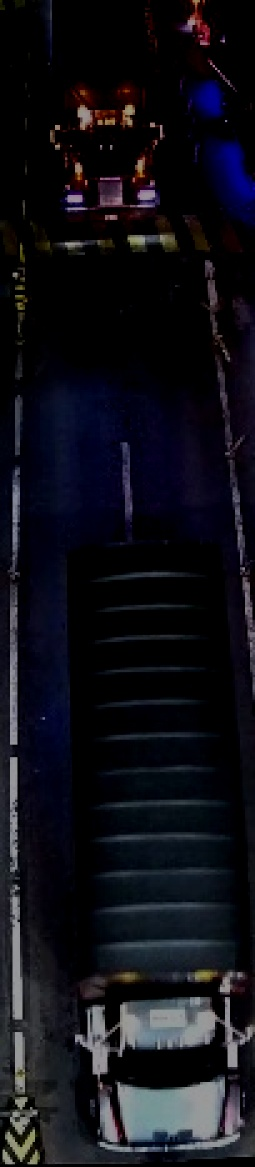truck: (64, 542, 252, 1158), (51, 1, 166, 223)
